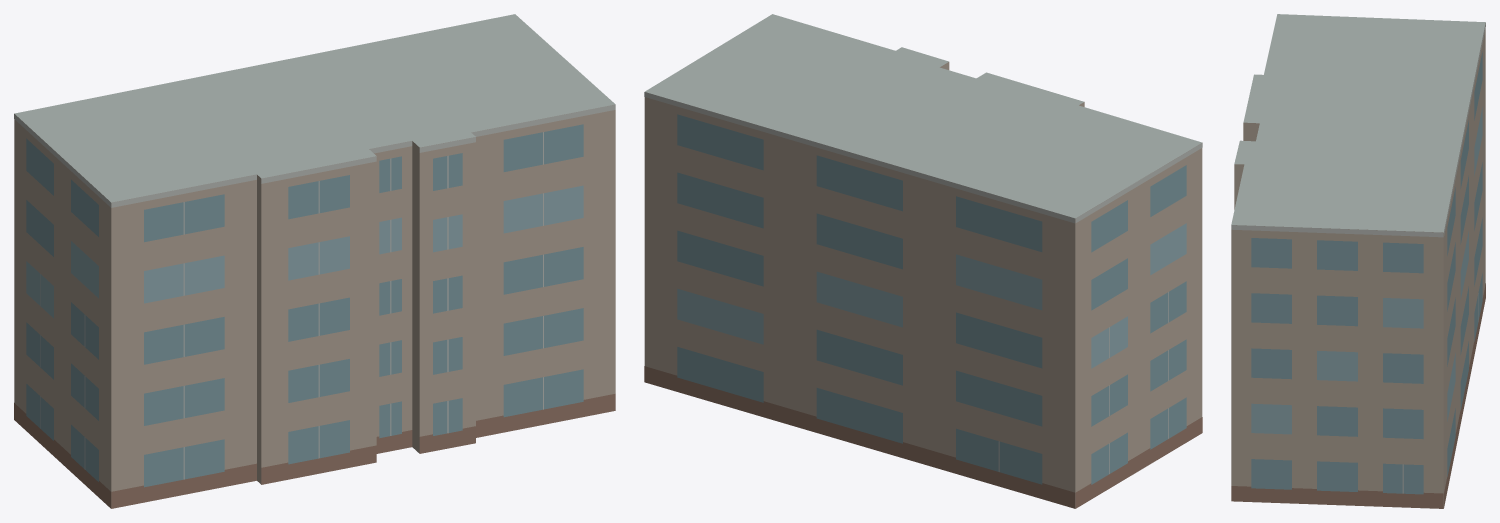
The model's file is survey-upis-32720498.glb.
3 views of the same model, side by side, from view 1: azimuth 30°, elevation 25°; view 2: azimuth 150°, elevation 25°; view 3: azimuth 270°, elevation 25° (orthographic). The views are drawn at different scales.
Parts seen in each view (by area): view 1: survey-upis-32720498.tmp; view 2: survey-upis-32720498.tmp; view 3: survey-upis-32720498.tmp.
Part boxes in pixels (box(x1,y1,x2,y2)): survey-upis-32720498.tmp: box(14, 14, 615, 508); survey-upis-32720498.tmp: box(644, 14, 1202, 508); survey-upis-32720498.tmp: box(1231, 14, 1485, 508).
Bounding box in the file's own units: 23.57 × 13.9 × 11.61.
